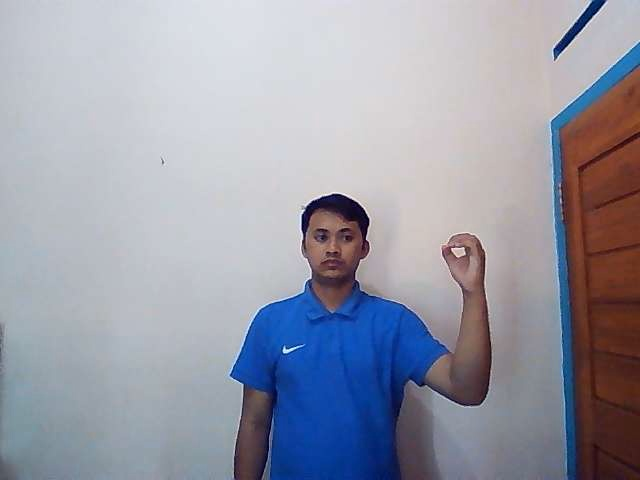O: (440, 232, 489, 287)
